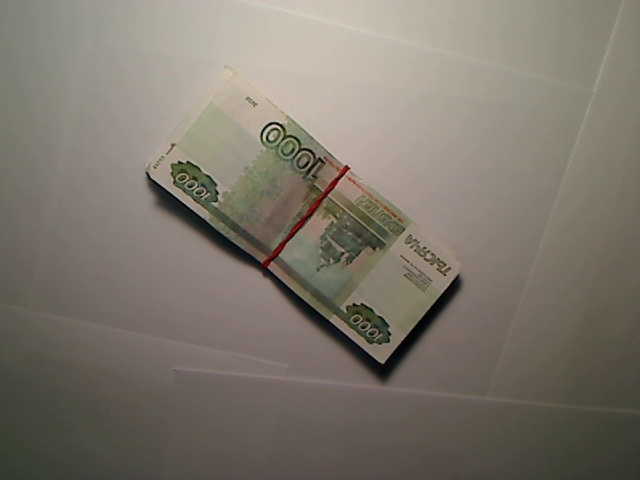banknotes: (142, 63, 467, 369)
